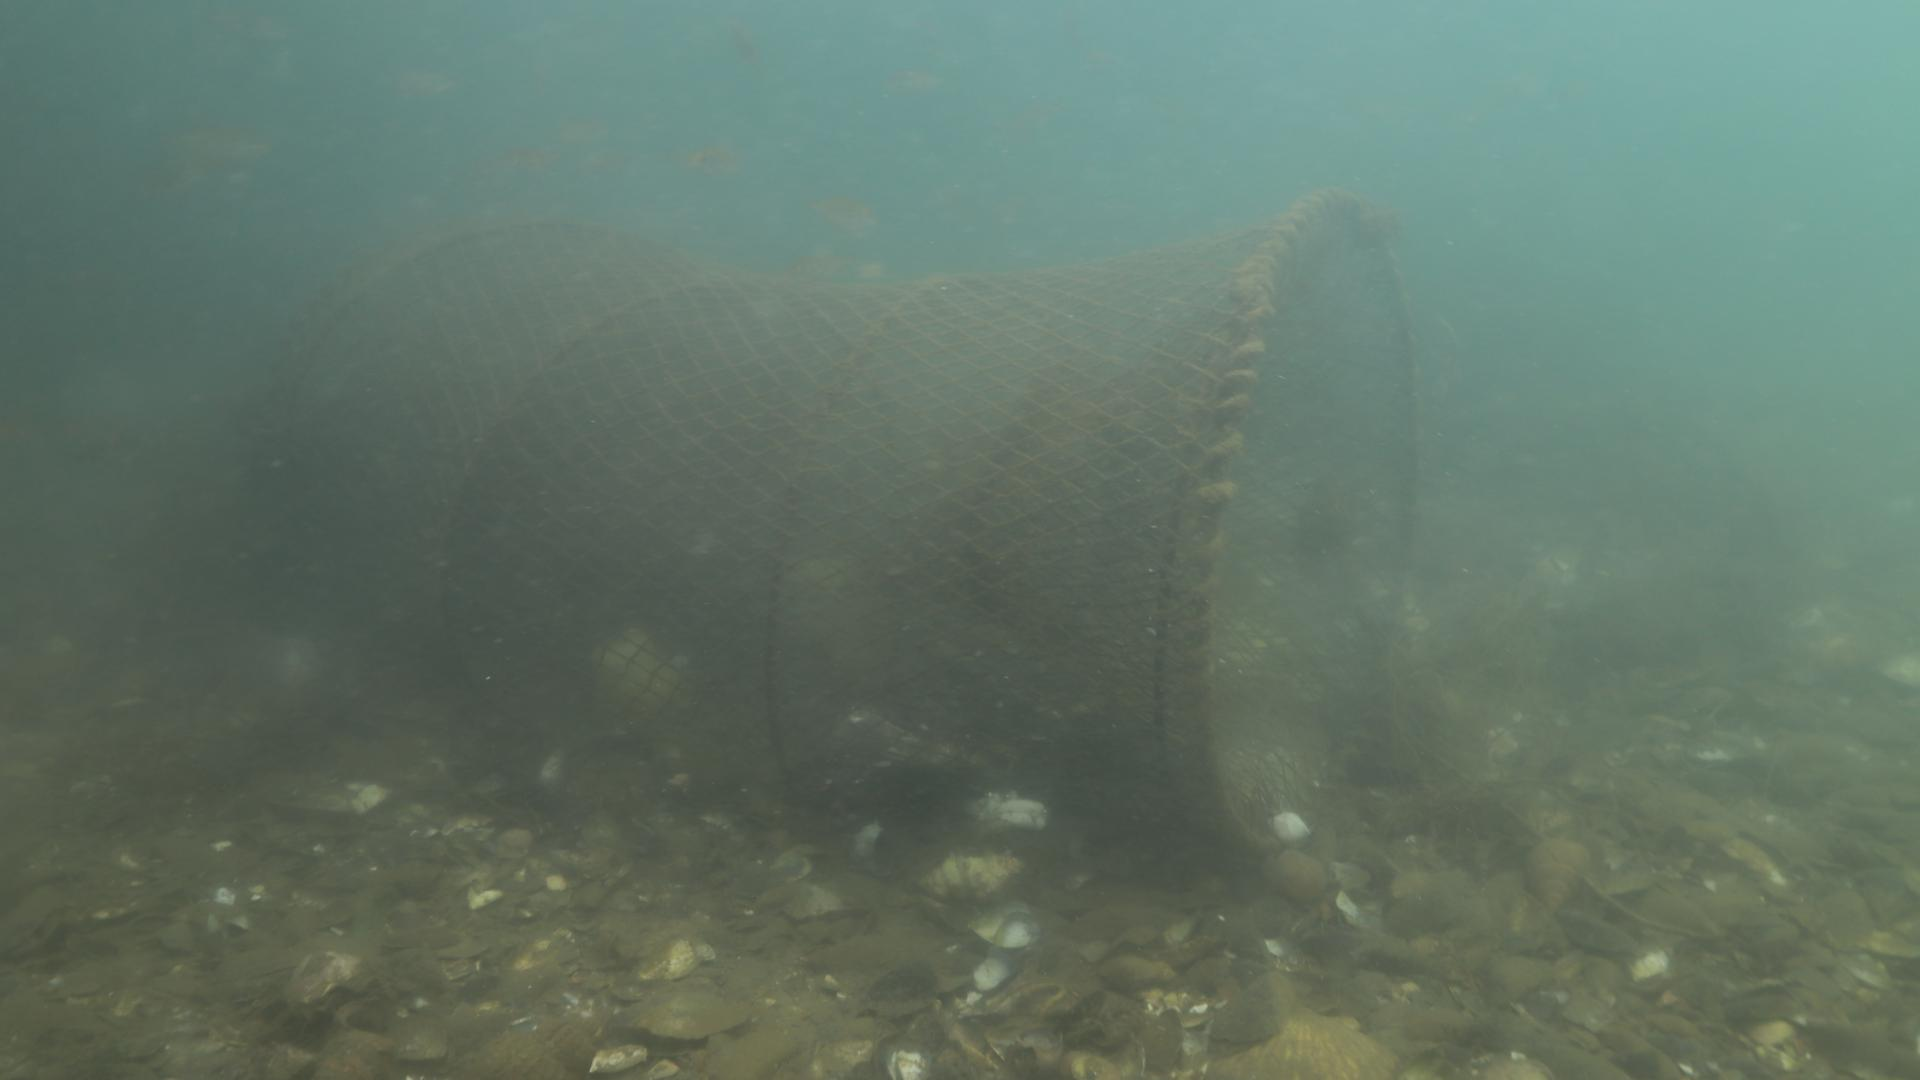spring fish trap: (257, 183, 1407, 856)
